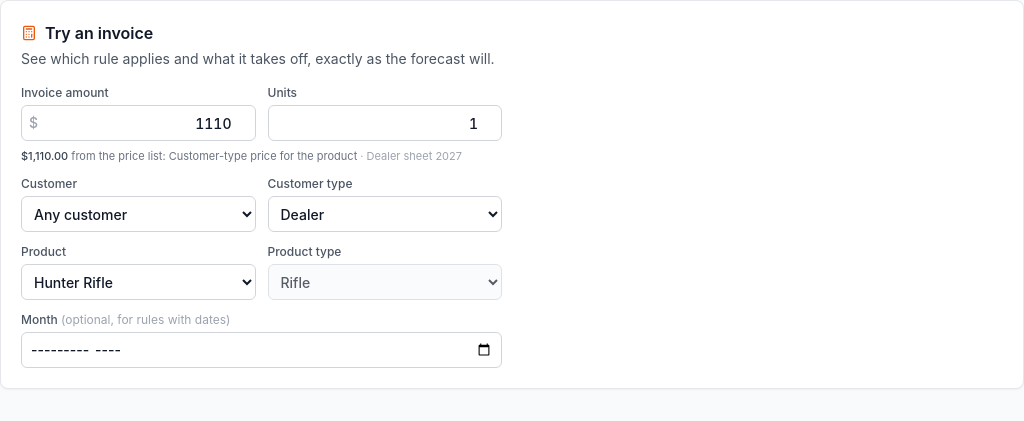
Test case: DeductionExample invoice amount › starts from the price-list price times units and says where it came from
Expected: the number field labelled "Invoice amount" holds "1110", [21,105,256,141]
Replace the text in the number field labelled "Units" with "2" at (385, 123), box [268,105,502,141]
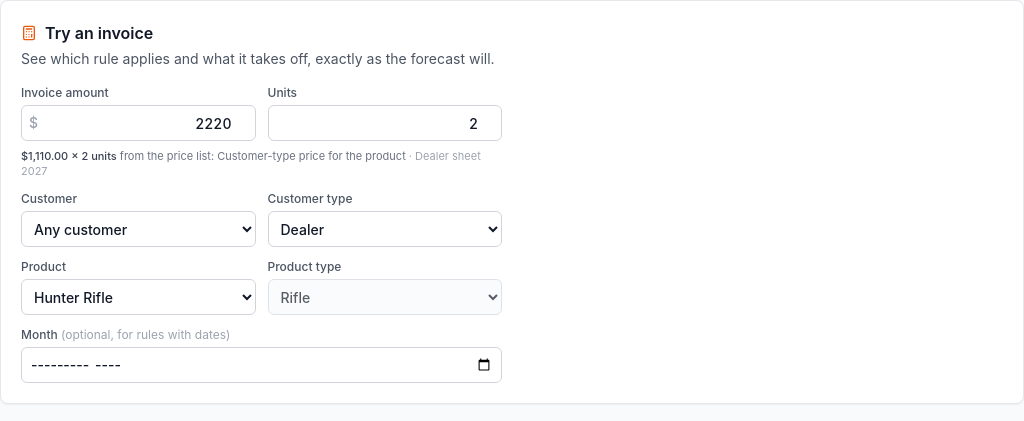
Now the number field labelled "Invoice amount" holds "2220"
Now the element with test id "invoice-price-source" shows "$1,110.00 × 2 units from the price list", box [21,149,502,179]
Replace the text in the number field labelled "Invoice amount" with "999" at (138, 123), box [21,105,256,141]
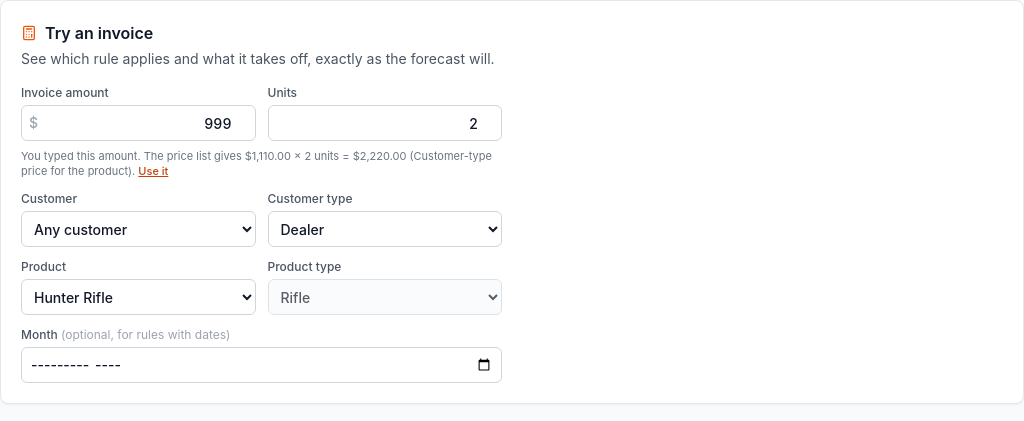
Select "Sling" in the dropdown labelled "Product" at (138, 297), box [21,279,256,315]
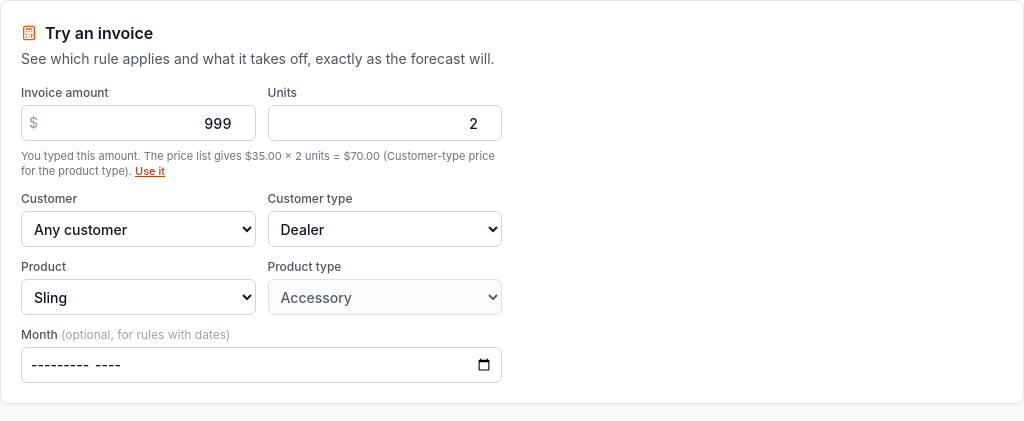
Now the element with test id "invoice-price-source" shows "You typed this amount. The price list gives $35.00 × 2 units = $70.00 (Customer-type price for the product type).", box [21,149,502,179]
Click the button "Use it" at (150, 172), box [135,164,165,179]
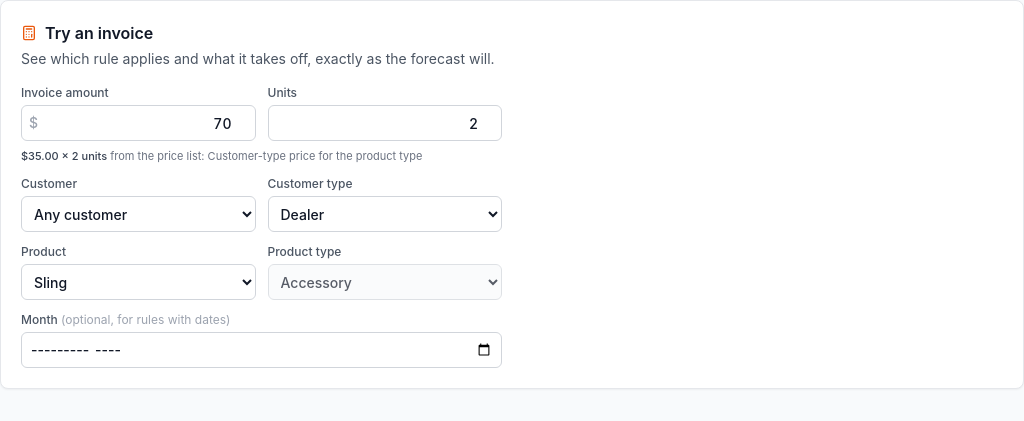
Now the number field labelled "Invoice amount" holds "70", box [21,105,256,141]
